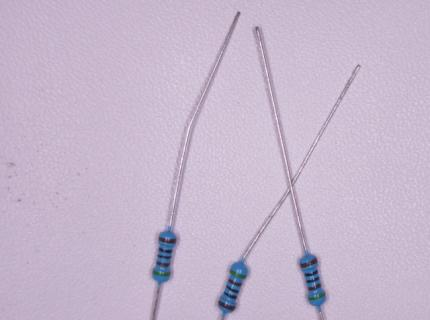Black band: (223, 291, 238, 300), (304, 269, 318, 278), (226, 284, 239, 293), (306, 276, 320, 284), (158, 247, 173, 254), (157, 254, 171, 259)
Brown band: (217, 300, 235, 312), (300, 258, 319, 268), (228, 278, 242, 288), (307, 282, 322, 291), (159, 236, 176, 243), (156, 261, 170, 267)
Green band: (229, 268, 247, 279), (308, 292, 326, 301), (153, 270, 171, 277)
